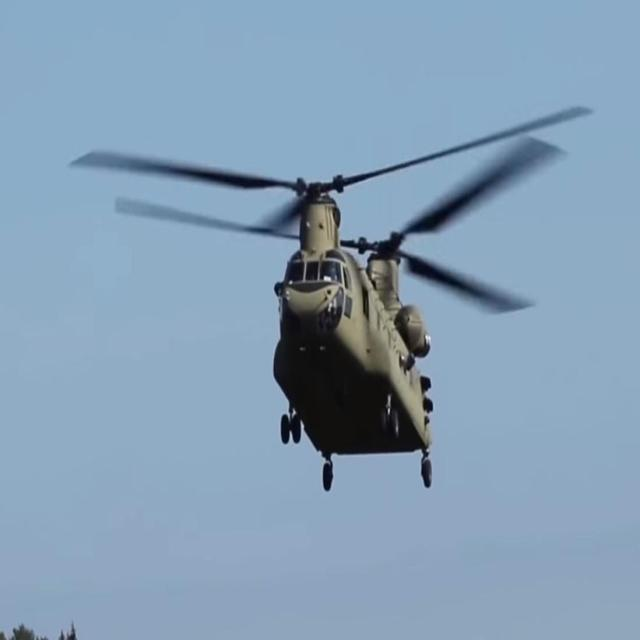Helicopter: (187, 118, 451, 510)
